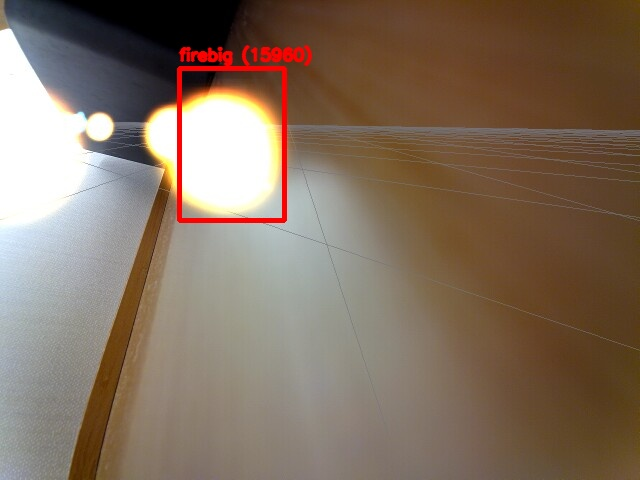firebig: (179, 68, 284, 220)
